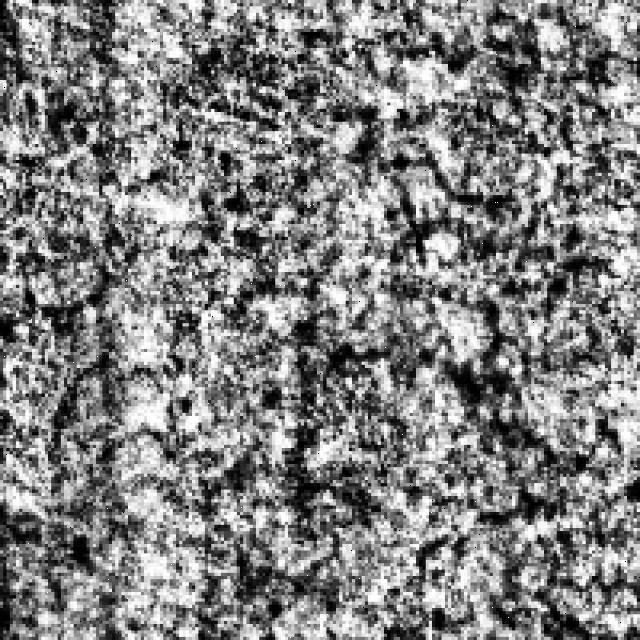Pitted_Surface: (308, 0, 630, 474), (413, 481, 640, 634)
